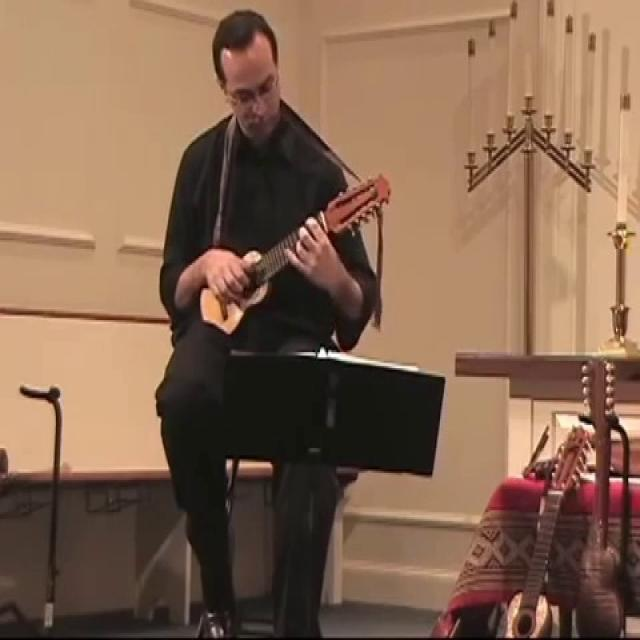Guitar: (196, 162, 410, 346)
